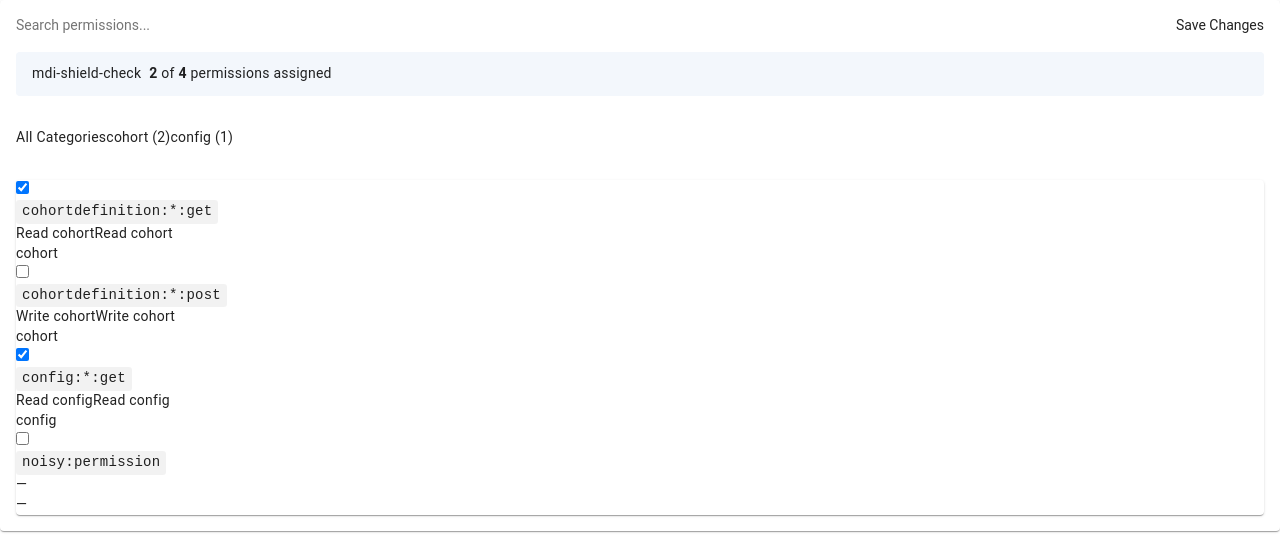
Test: RolePermissionsTab interactions › filters by search query (debounced 300ms)
The image size is (1280, 550).
Type "config" into the field with class "stub-textfield" at {"x": 112, "y": 26}, box top-left (16, 16), bottom-right (209, 36)
Wait 400 ms
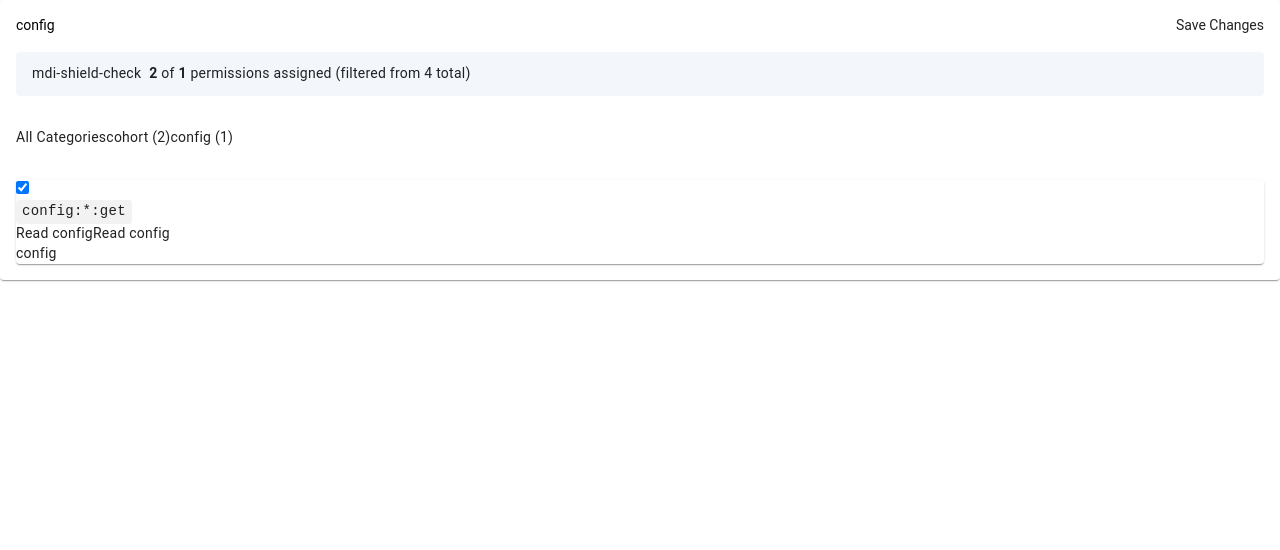
Check: the elements with class "role-permissions-tab__permission-code" read "config:*:get", in this order, box top-left (16, 200), bottom-right (132, 224)
